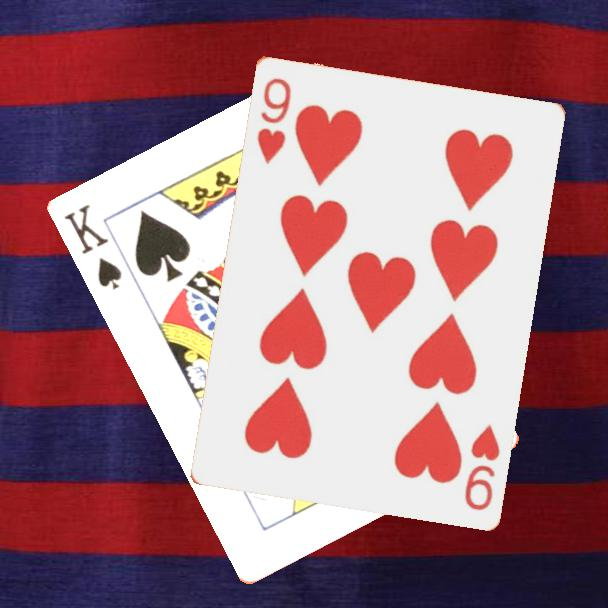h09: (460, 420, 502, 513), (253, 73, 294, 166)
s13: (61, 201, 126, 293)
